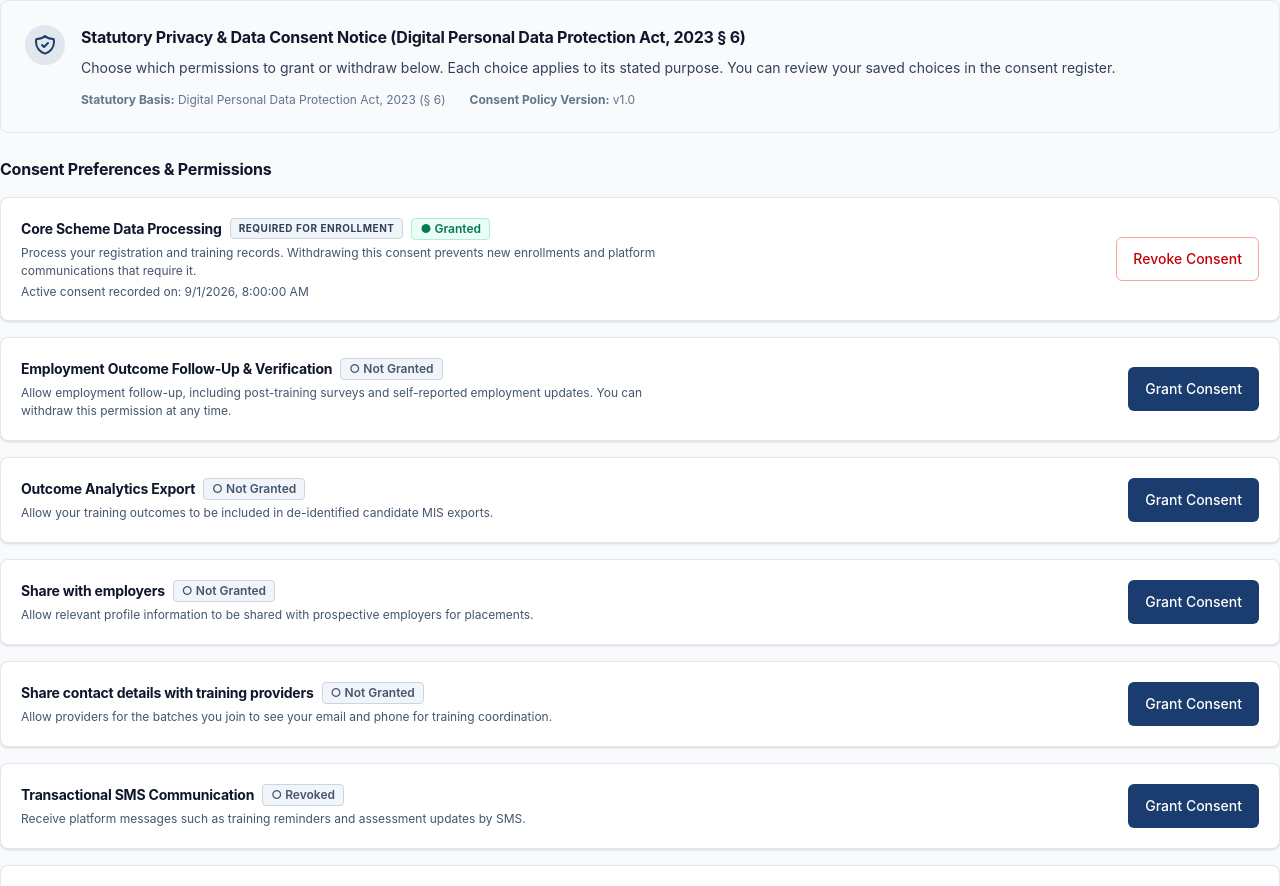
Scenario: TraineeConsentPage Component › renders error notification when consent mutation fails
Click the button "Revoke Consent".
click(1188, 259)  # box [1116,237,1259,281]
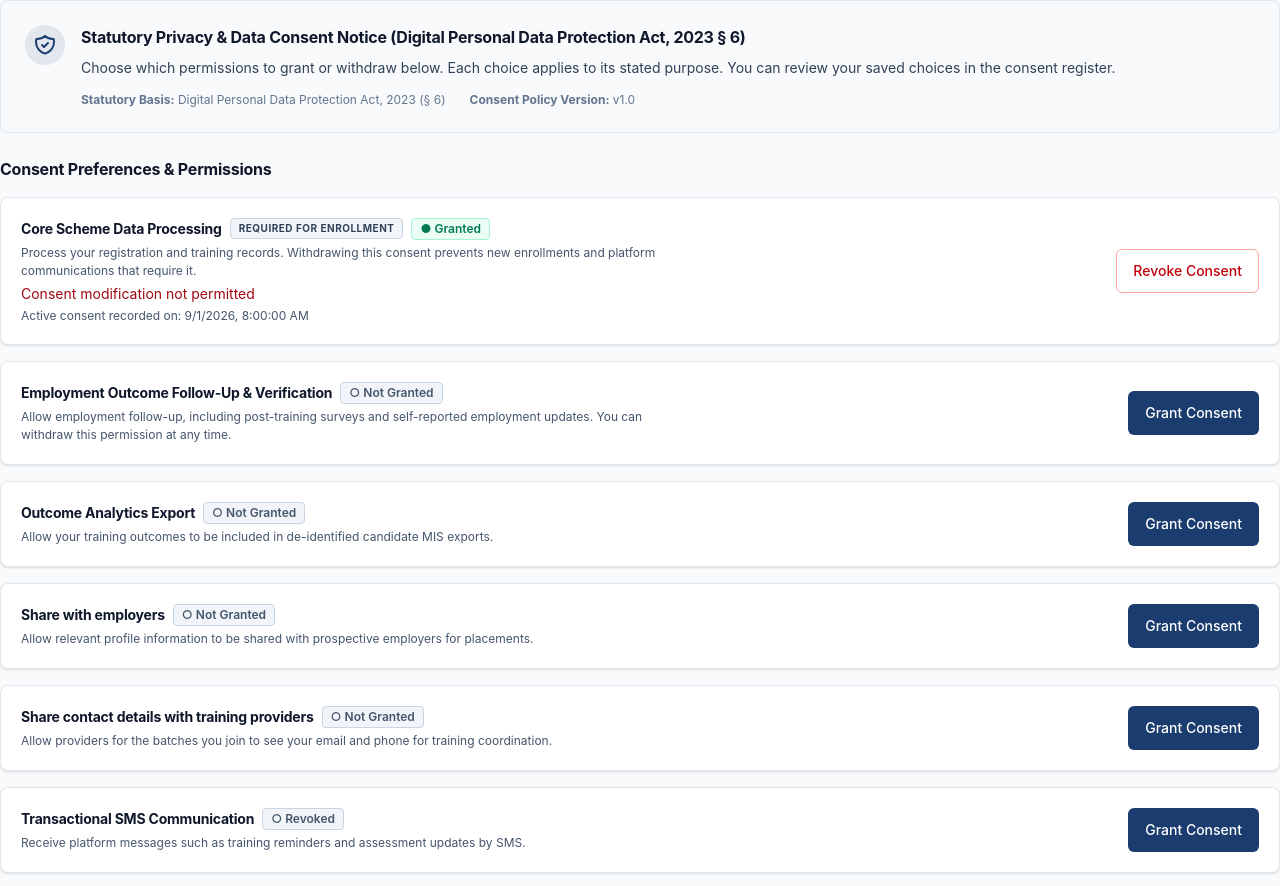
Now the text "Consent modification not permitted" is shown, box [21,285,255,302]
